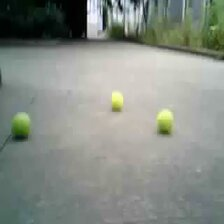tennis: (11, 112, 30, 138), (154, 108, 173, 132), (110, 93, 123, 111)
